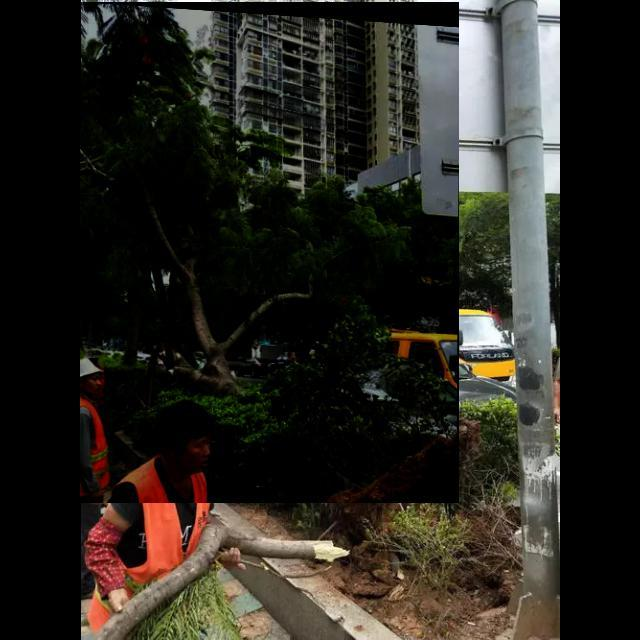fallen_tree: (80, 2, 460, 504)
